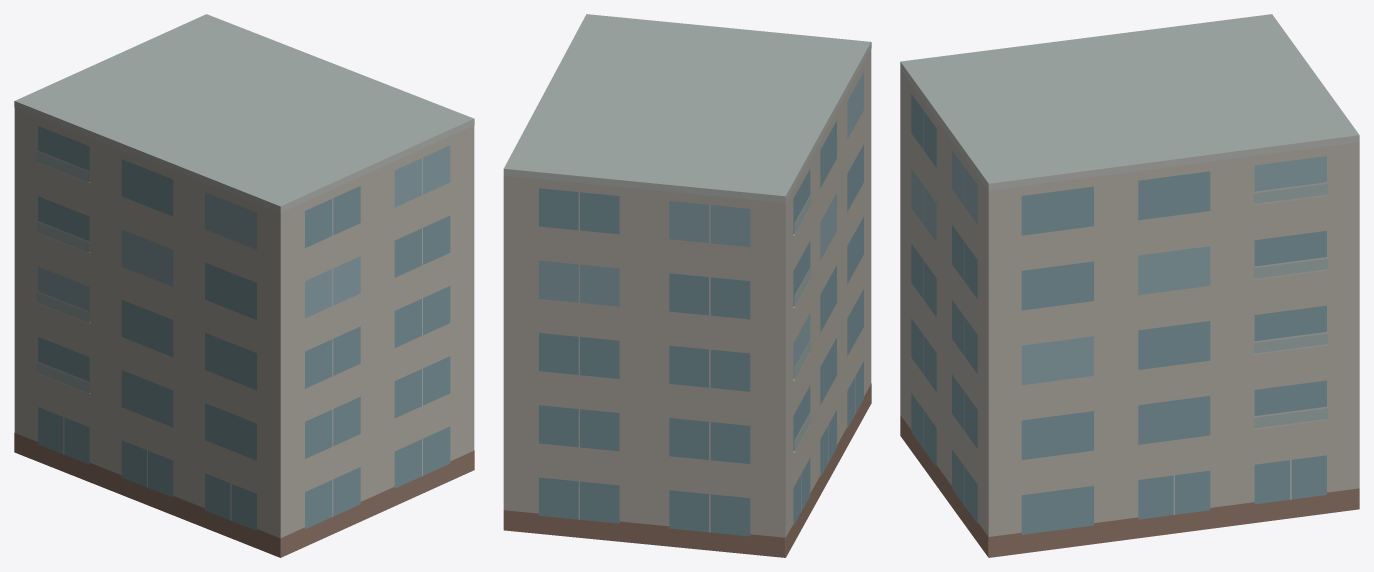
File: survey-upis-32751944.glb
3 views of the same model, side by side, from view 1: azimuth 30°, elevation 25°; view 2: azimuth 150°, elevation 25°; view 3: azimuth 270°, elevation 25° (orthographic). The views are drawn at different scales.
Visible parts, largest first — view 1: survey-upis-32751944.tmp; view 2: survey-upis-32751944.tmp; view 3: survey-upis-32751944.tmp.
Boxes of the visible parts, box(x1,y1,x2,y2) form: survey-upis-32751944.tmp: box(14, 14, 474, 557); survey-upis-32751944.tmp: box(503, 14, 871, 557); survey-upis-32751944.tmp: box(900, 14, 1359, 557).
Size of the model in its own units: 12.66 by 13 by 14.47.
